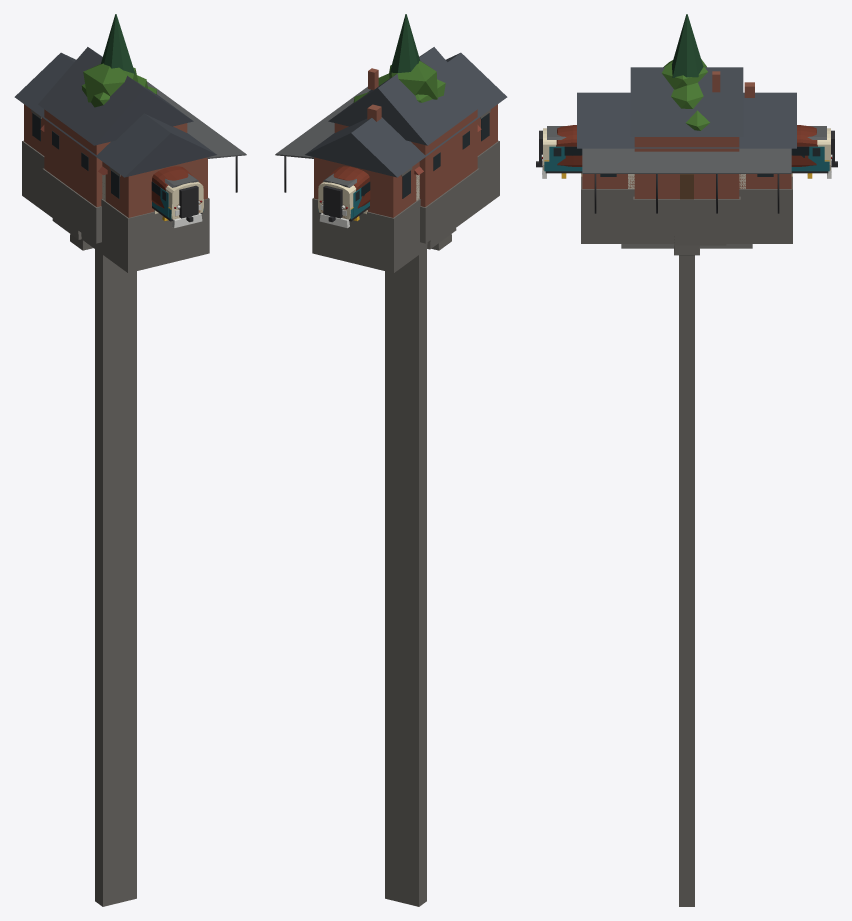
Rendered from assetpack.glb.
3 views of the same model, side by side, from view 1: azimuth 30°, elevation 25°; view 2: azimuth 150°, elevation 25°; view 3: azimuth 270°, elevation 25° (orthographic).
Visible parts, largest first — view 1: pier, station_building, house_c, coach, tree_oak, loco_freight, tree_pine; view 2: pier, station_building, house_c, coach, tree_oak, loco_freight, tree_pine; view 3: station_building, house_c, pier, coach, loco_freight, tree_oak, tree_pine, abutment, house_a.
Boxes of the visible parts, x1,y1,x2,y2 form: pier: (95,249,136,906); station_building: (14,52,246,273); house_c: (38,47,193,243); coach: (152,173,203,222); tree_oak: (81,63,156,107); loco_freight: (151,166,202,228); tree_pine: (101,14,135,74); pier: (385,249,426,906); station_building: (275,52,507,273); house_c: (328,47,483,243); coach: (318,173,369,222); tree_oak: (353,61,445,102); loco_freight: (319,166,370,228); tree_pine: (390,14,420,74); station_building: (577,82,796,243); house_c: (630,67,743,234); pier: (679,255,694,906); coach: (536,126,837,171); loco_freight: (541,125,832,178); tree_oak: (662,59,710,130); tree_pine: (672,14,703,77); abutment: (674,235,726,255); house_a: (627,174,746,232).
Size of the model in its own units: 11.3 by 74.62 by 23.07.
